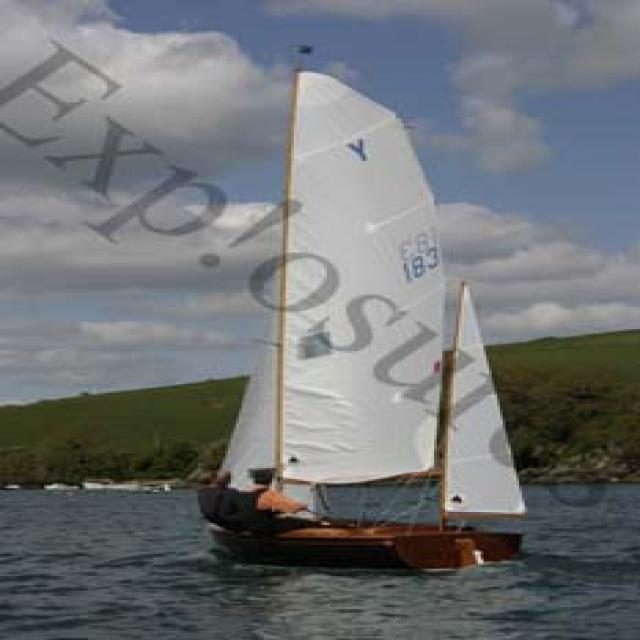Ship: (202, 68, 555, 577)
